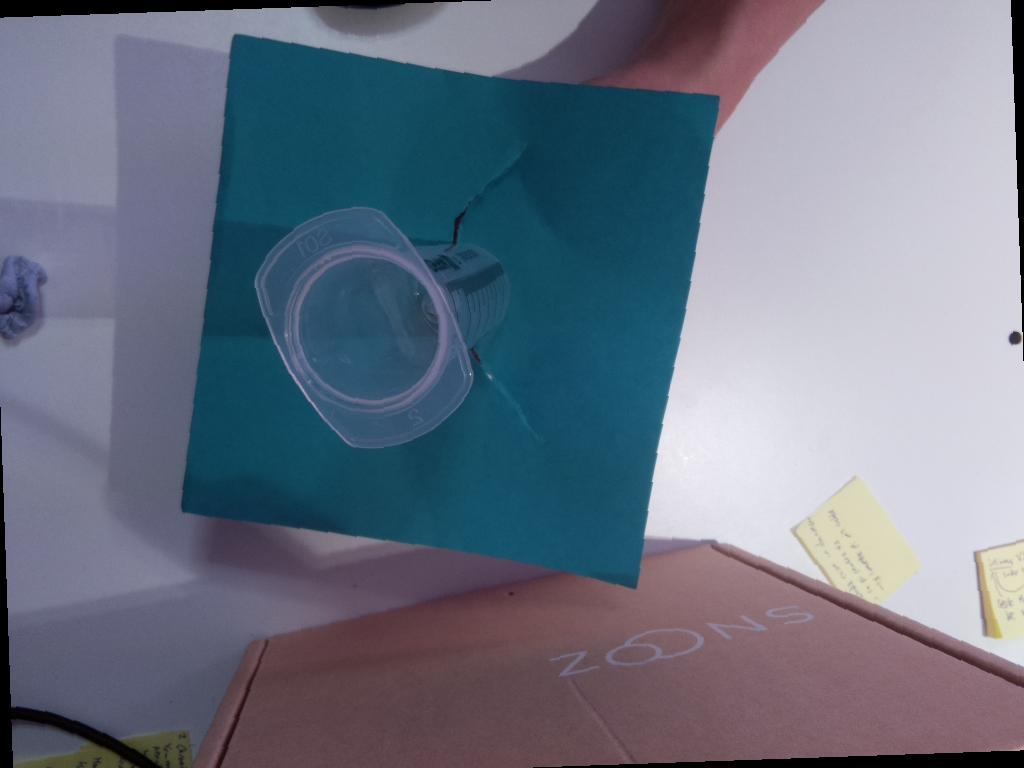clean: (248, 203, 479, 456)
